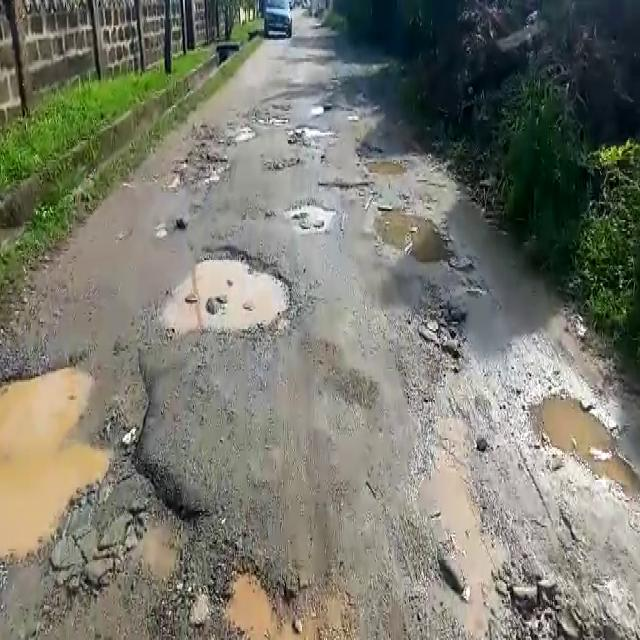Pothole: (1, 346, 200, 640), (158, 242, 302, 336), (499, 568, 640, 640), (526, 384, 626, 470), (374, 209, 459, 262), (405, 297, 462, 371), (168, 150, 229, 196), (288, 200, 334, 233), (316, 177, 382, 193)
